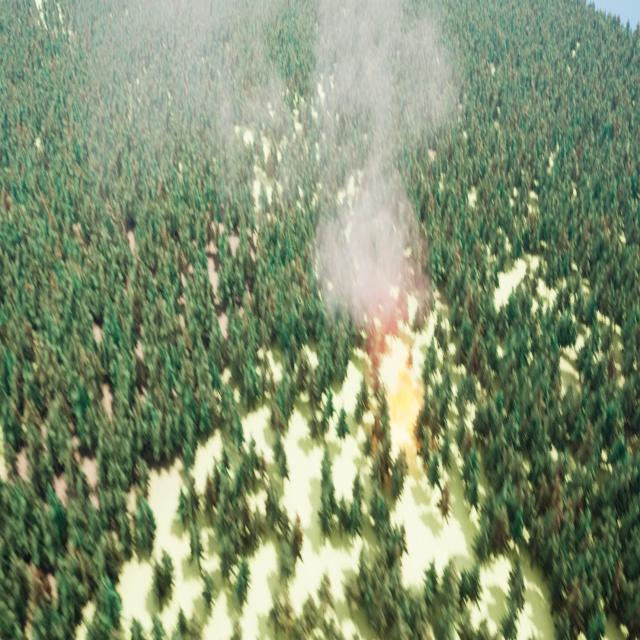smoke: (72, 0, 463, 328)
